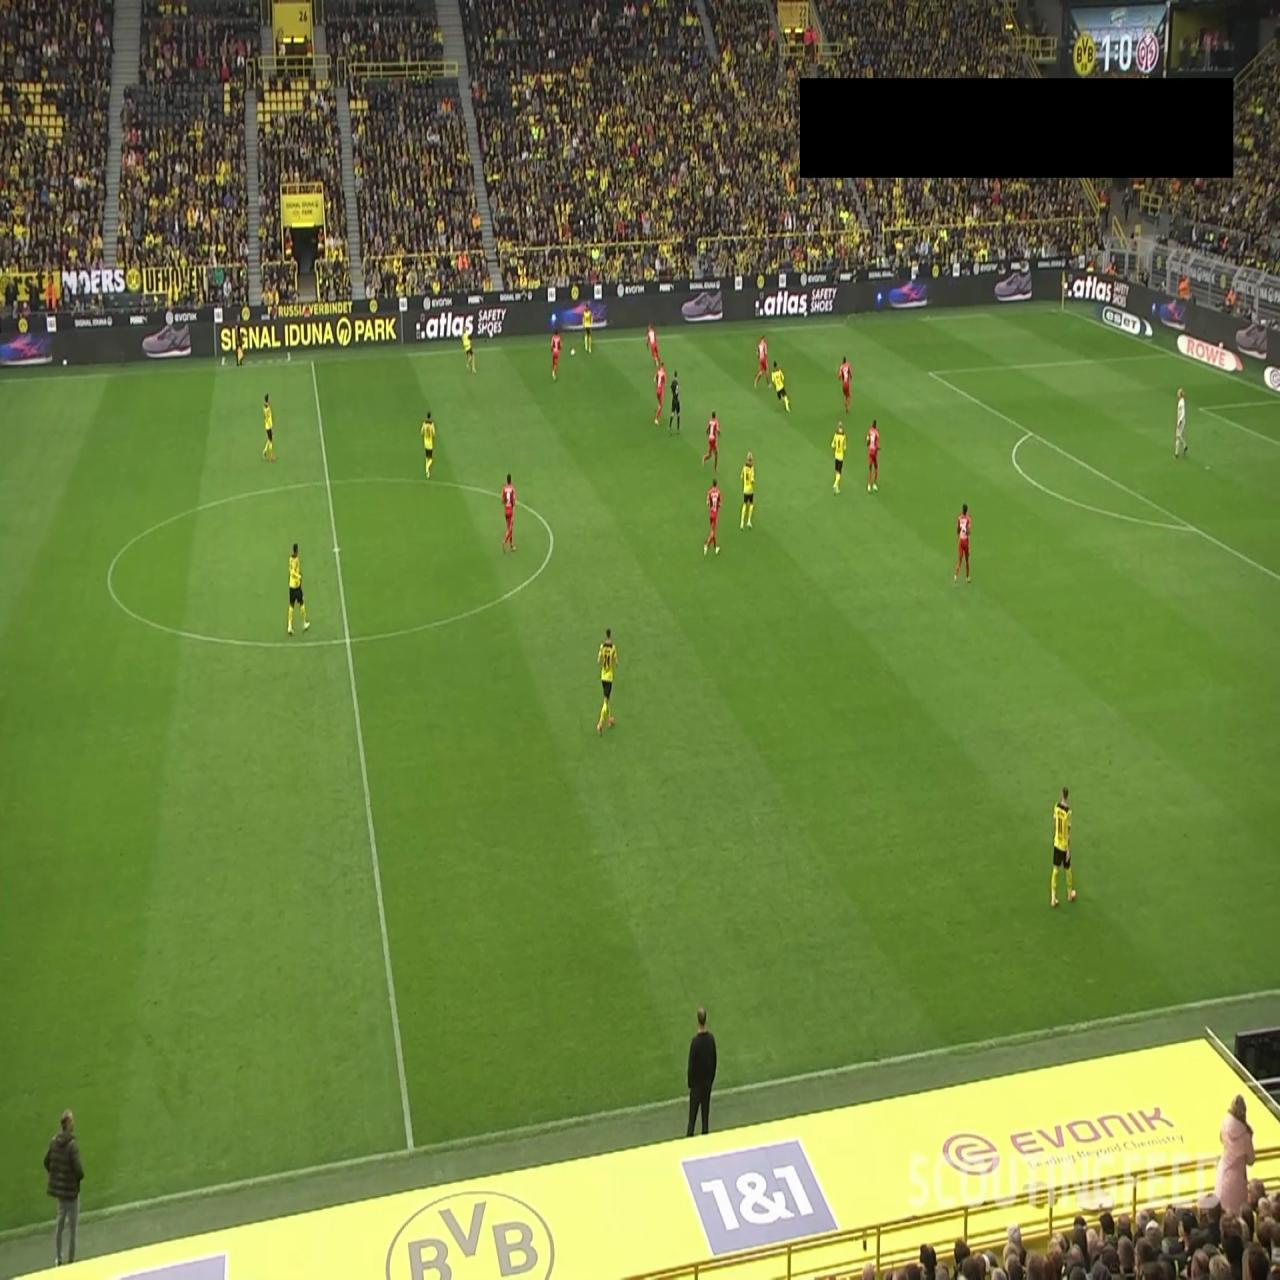ball: (570, 346, 576, 359)
goalkeeper: (1174, 386, 1189, 459)
player: (1050, 784, 1077, 908), (597, 626, 618, 736), (287, 543, 309, 635), (703, 476, 722, 558), (954, 502, 972, 584), (739, 450, 756, 531), (830, 418, 847, 496), (702, 410, 721, 479), (501, 473, 516, 555), (866, 417, 881, 493), (420, 410, 436, 480), (771, 359, 791, 414), (753, 335, 771, 390), (837, 353, 853, 414), (262, 392, 275, 461), (653, 360, 666, 427), (461, 324, 476, 374), (645, 322, 661, 368), (550, 327, 562, 381), (583, 302, 593, 353)
referee: (668, 371, 681, 436), (234, 311, 245, 369)
